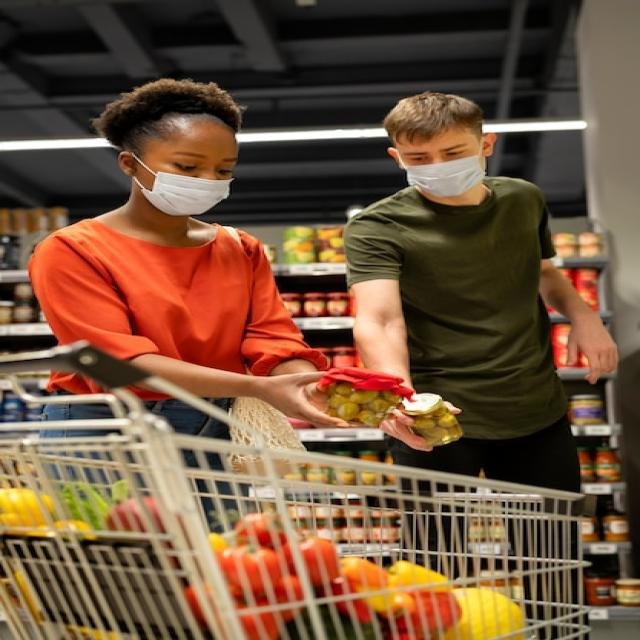Person: (29, 82, 349, 438), (343, 92, 618, 492)
